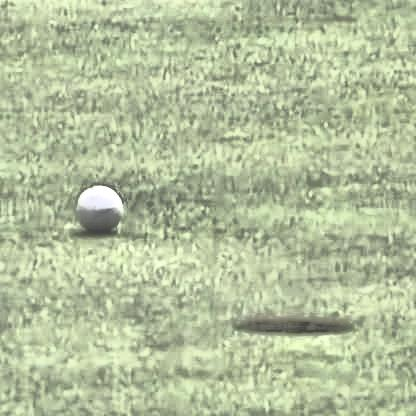golfball: (75, 178, 123, 229)
